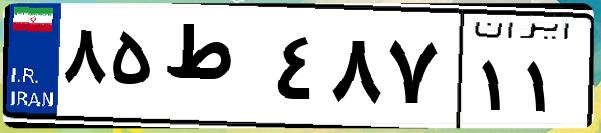1: (475, 38, 525, 113), (525, 38, 570, 115)
4: (270, 28, 330, 110)
5: (110, 28, 158, 98)
7: (385, 28, 445, 110)
8: (330, 28, 385, 110), (57, 26, 110, 100)
ط: (158, 20, 270, 120)
